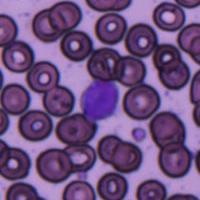L: (80, 79, 122, 122)
